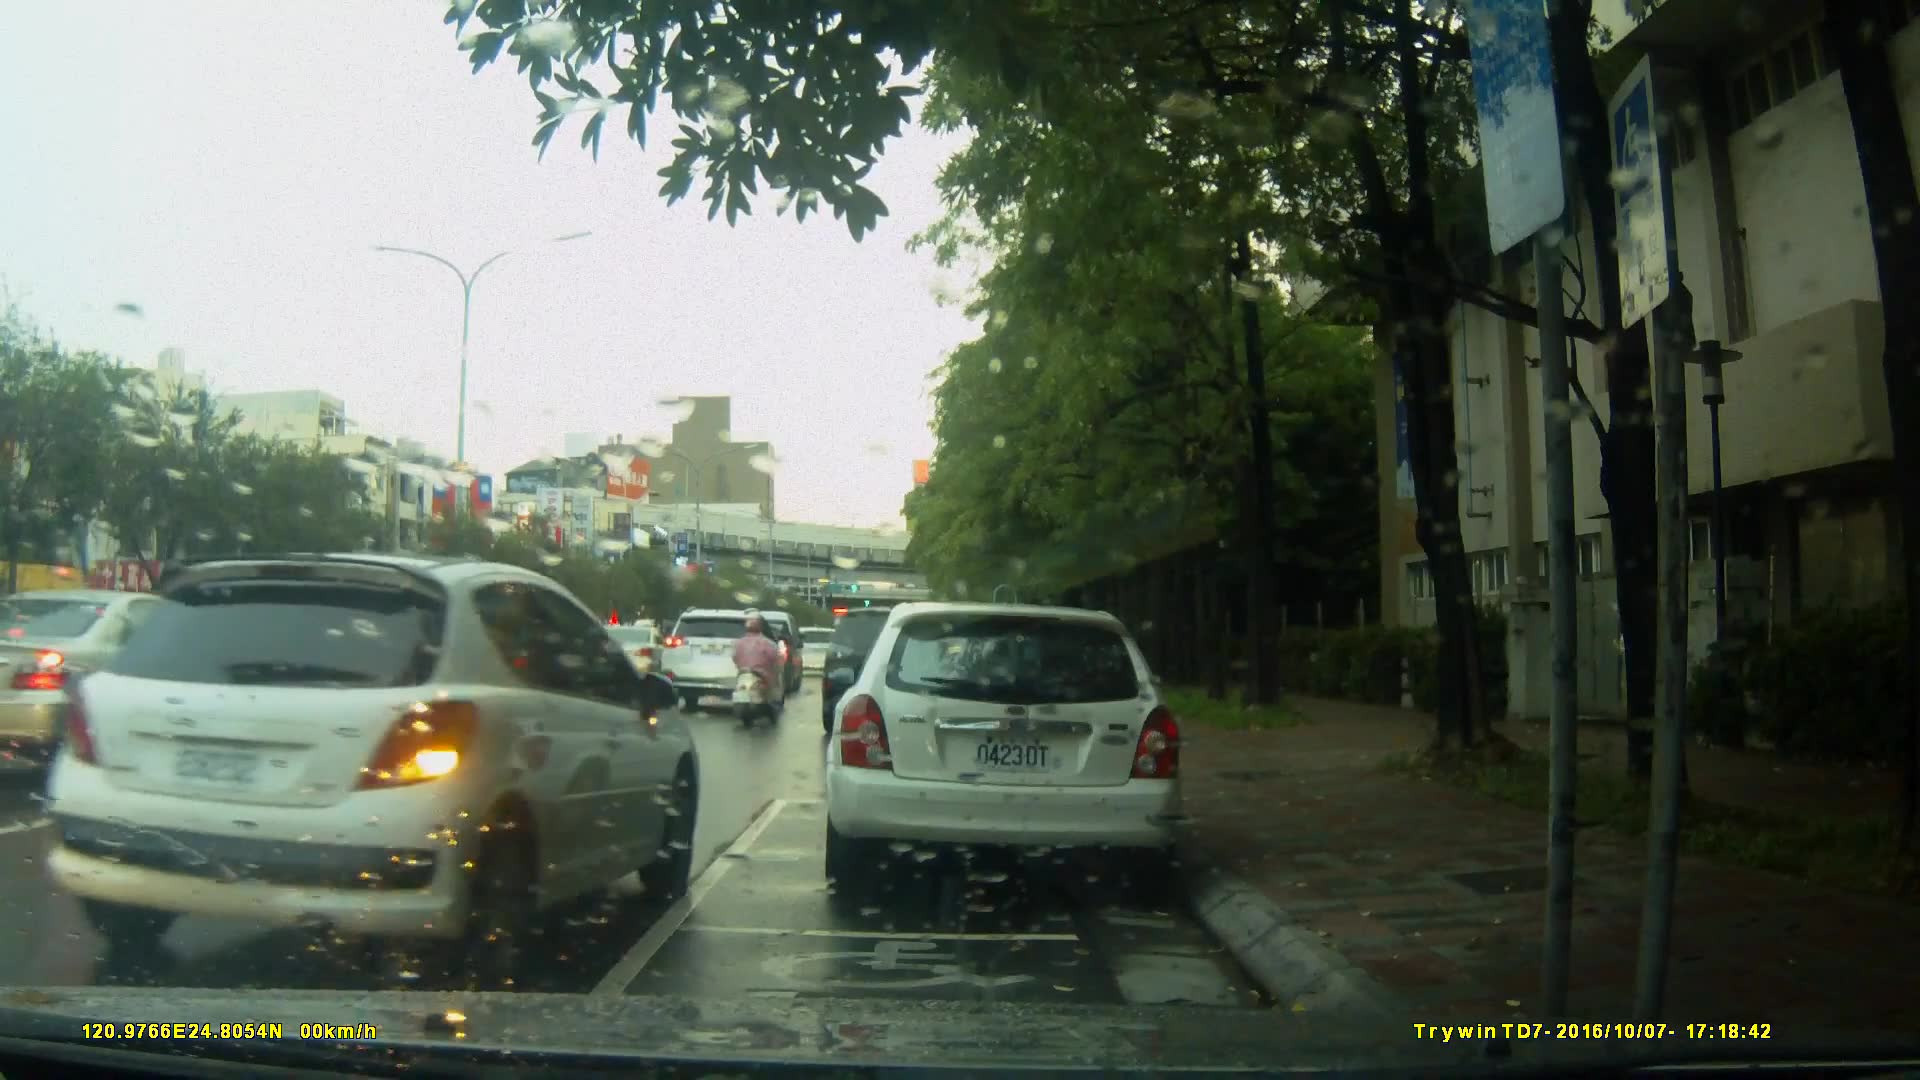rider: (726, 610, 780, 733)
vehicle: (42, 549, 699, 976), (820, 602, 1188, 898), (4, 587, 293, 775), (659, 608, 788, 716)
